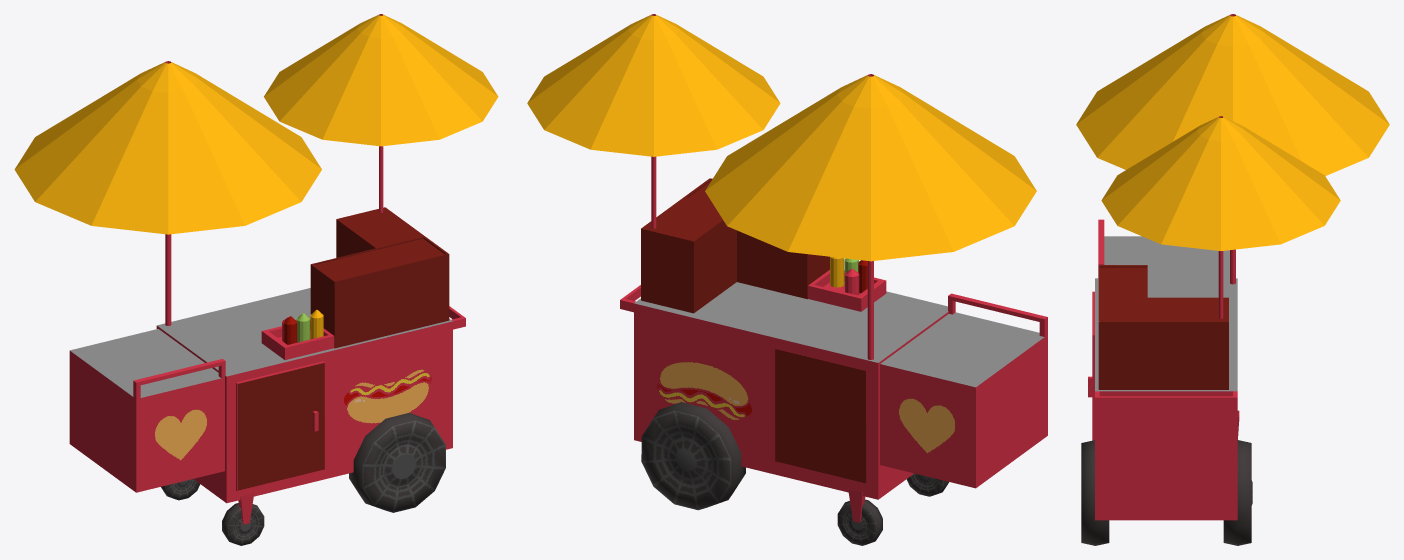
Rendered from FoodCart_Hotdog.fbx.
The picture shows the model from 3 angles, left to right: view 1: azimuth 30°, elevation 25°; view 2: azimuth 150°, elevation 25°; view 3: azimuth 270°, elevation 25°; orthographic projection. The views are drawn at different scales.
Visible parts, largest first — view 1: FoodCart_Hotdog; view 2: FoodCart_Hotdog; view 3: FoodCart_Hotdog.
Part boxes in pixels (x1,y1,x2,y2): FoodCart_Hotdog: (14, 14, 498, 545); FoodCart_Hotdog: (527, 14, 1047, 545); FoodCart_Hotdog: (1076, 14, 1389, 545).
Size of the model in its own units: 397 by 376 by 239.
